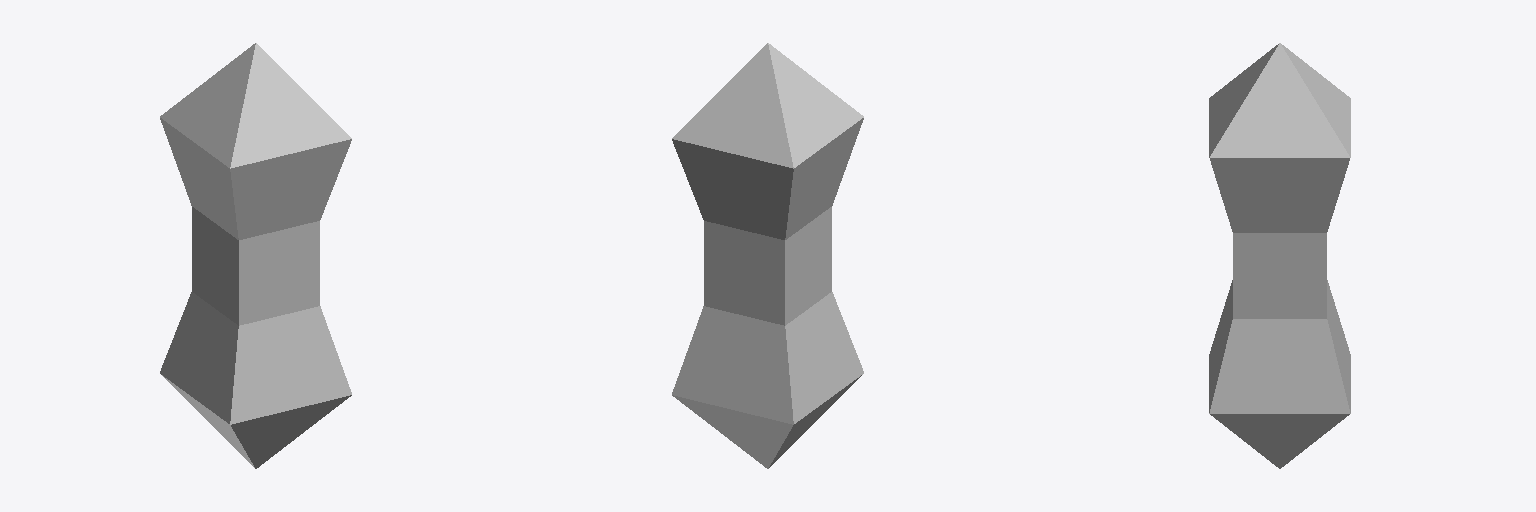
File: crystal.obj
3 views of the same model, side by side, from view 1: azimuth 30°, elevation 25°; view 2: azimuth 150°, elevation 25°; view 3: azimuth 270°, elevation 25° (orthographic).
Parts seen in each view (by area): view 1: Cube_Cube.001; view 2: Cube_Cube.001; view 3: Cube_Cube.001.
Boxes of the visible parts, x1=… form: Cube_Cube.001: x1=160, y1=43, x2=351, y2=468; Cube_Cube.001: x1=672, y1=43, x2=863, y2=468; Cube_Cube.001: x1=1209, y1=43, x2=1350, y2=468.
Bounding box in the file's own units: 0.75 × 2.5 × 0.75.